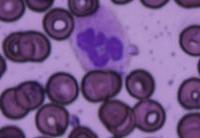N: (69, 1, 137, 70)
